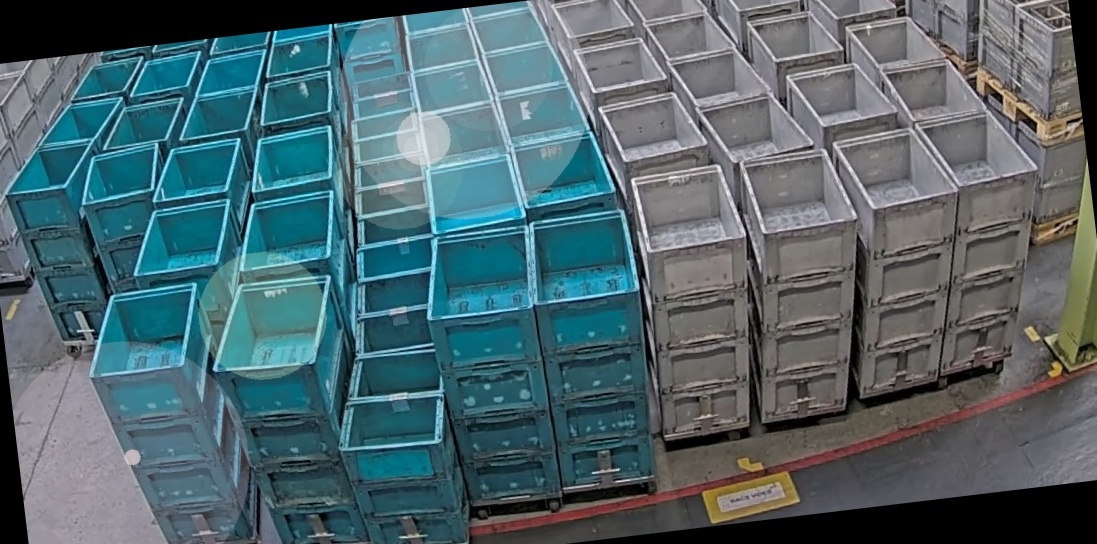4G: (826, 123, 984, 401), (729, 143, 883, 425), (908, 105, 1062, 381), (630, 159, 771, 442)
B4: (77, 278, 259, 544), (201, 269, 374, 544), (416, 223, 566, 512), (527, 207, 665, 496), (74, 140, 181, 303)
B8: (325, 343, 470, 544)
